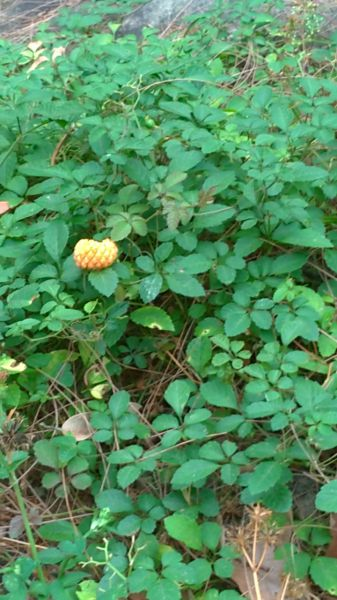eggs: (67, 230, 124, 274)
